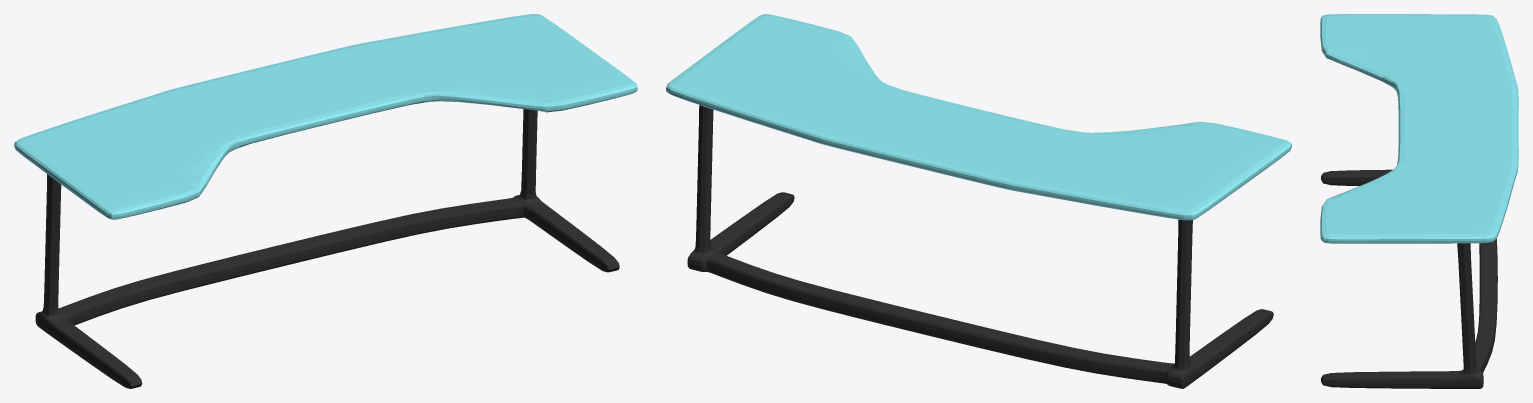
3 renders of one model, left to right at view 1: azimuth 30°, elevation 25°; view 2: azimuth 150°, elevation 25°; view 3: azimuth 270°, elevation 25°, orthographic. The views are drawn at different scales.
Parts seen in each view (by area): view 1: Desk_0; view 2: Desk_0; view 3: Desk_0.
Boxes of the visible parts, x1,y1,x2,y2 form: Desk_0: (14,14,637,388); Desk_0: (666,14,1291,388); Desk_0: (1320,14,1518,388).
Size of what is drawn, in the model's own units: 6.01 by 2 by 2.24.
